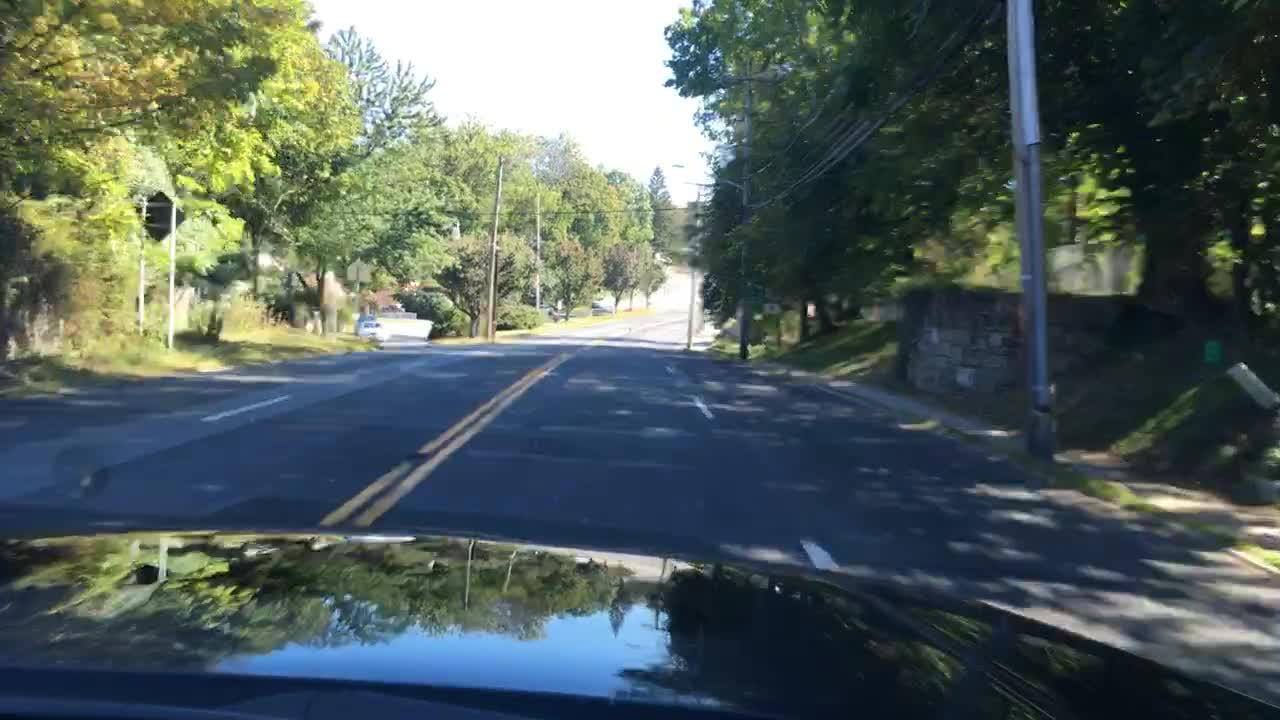car: (359, 319, 384, 340), (353, 314, 375, 332)
traffic sign: (134, 189, 188, 242), (1201, 339, 1223, 361), (346, 260, 368, 279)
